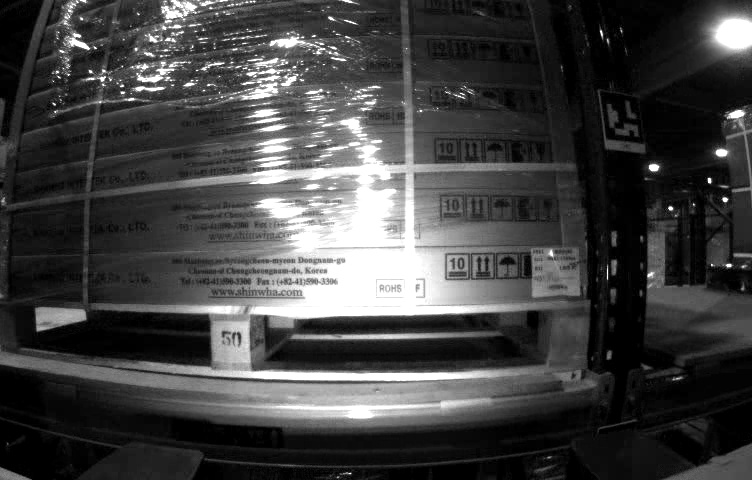True Barcode: (531, 245, 582, 297)
